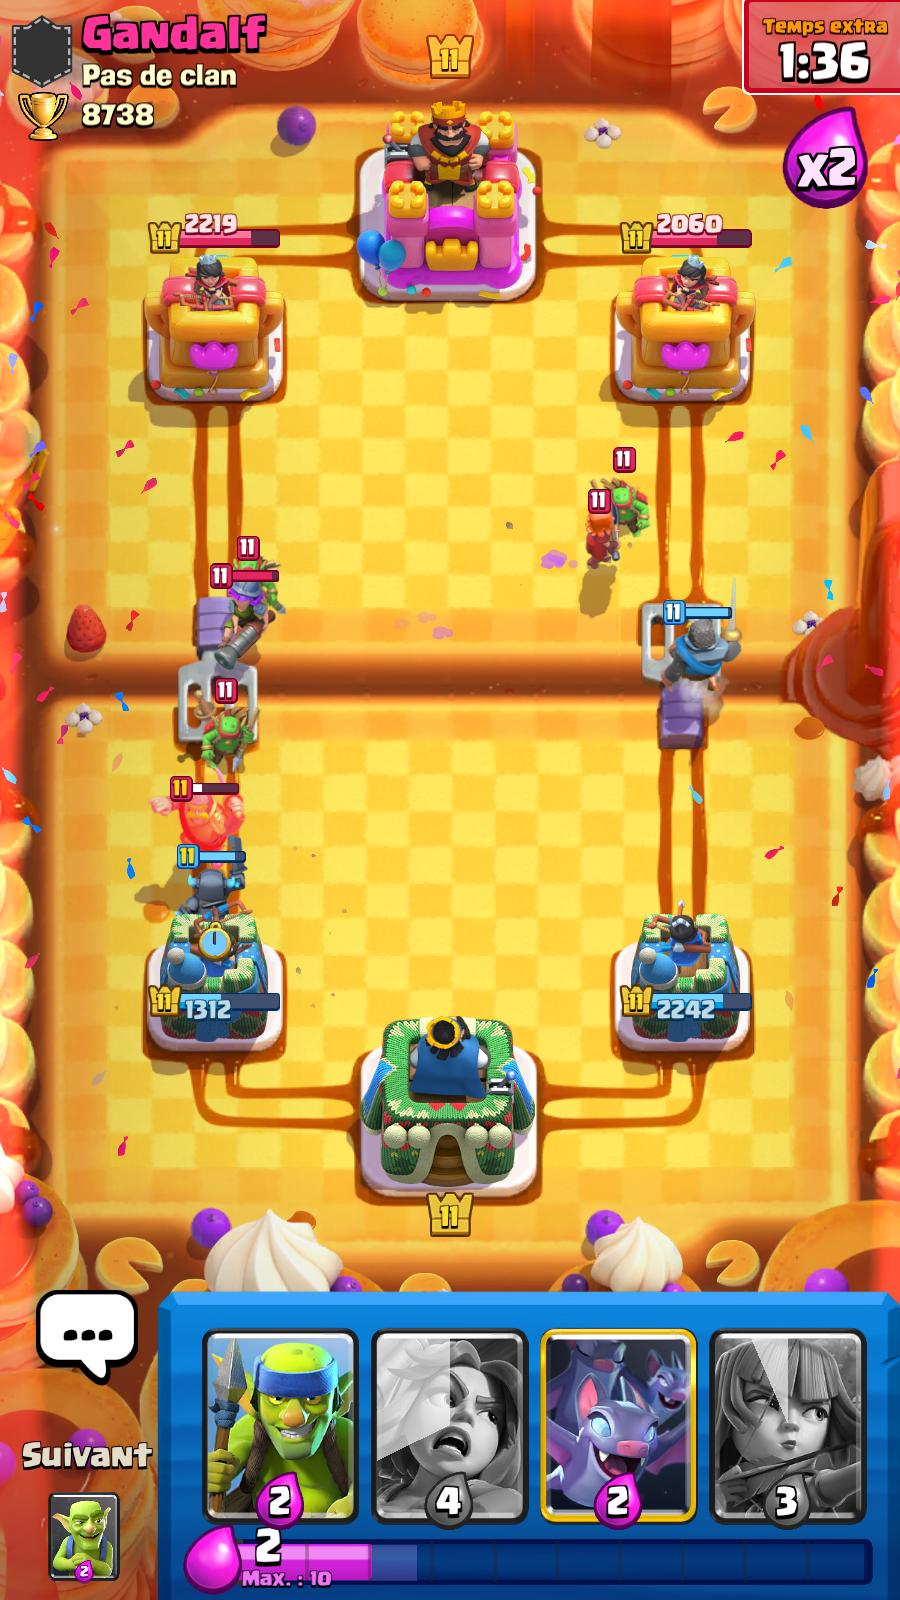chevalier: (652, 579, 749, 704), (151, 767, 273, 858)
gobelin_lances: (181, 695, 274, 787), (574, 449, 659, 532), (229, 535, 299, 611)
mini_PEKKA: (165, 840, 260, 942)
mousquetaire: (207, 566, 291, 677)
valkyrie: (577, 485, 638, 595)
